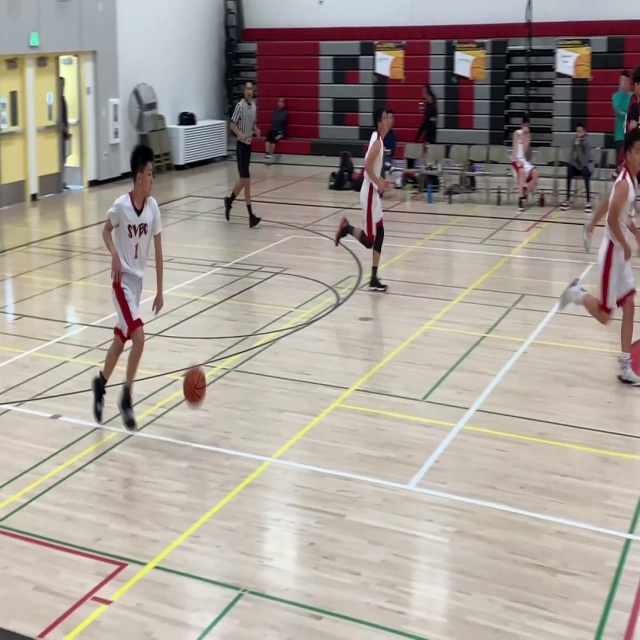Basketball: (183, 366, 206, 403)
